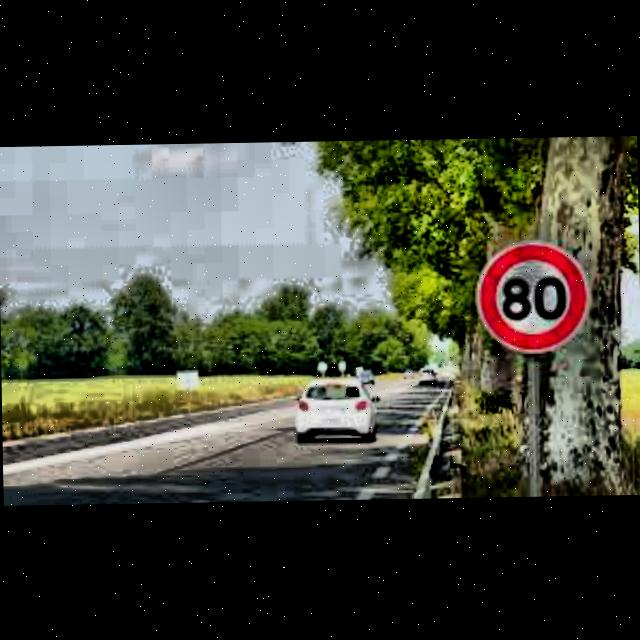speed_80: (474, 240, 589, 353)
